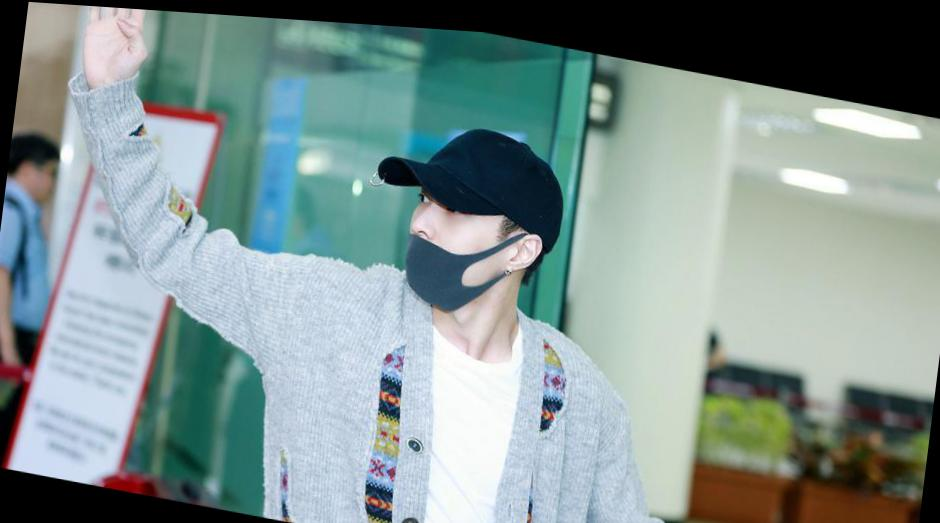NONE: (32, 156, 64, 206)
WRONG: (399, 168, 502, 313)
